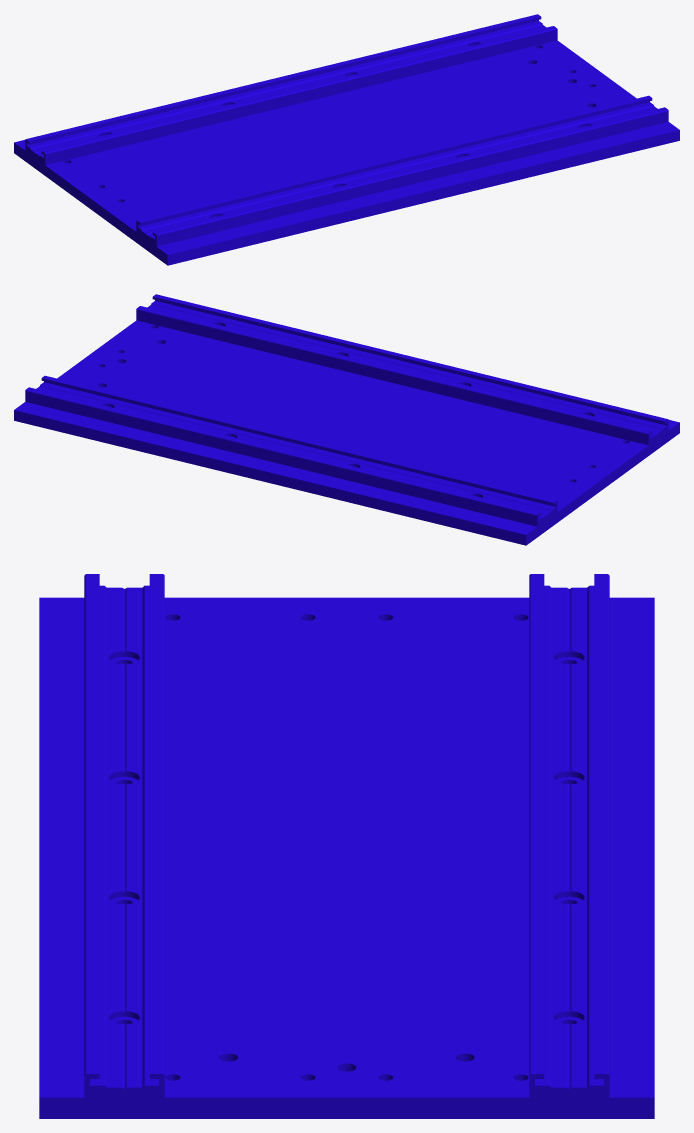
3 renders of one model, top to bottom at view 1: azimuth 30°, elevation 25°; view 2: azimuth 150°, elevation 25°; view 3: azimuth 270°, elevation 25°, orthographic. The views are drawn at different scales.
Visible parts, largest first — view 1: BasePart; view 2: BasePart; view 3: BasePart.
Part boxes in pixels (x1,y1,x2,y2): BasePart: [14, 14, 679, 265]; BasePart: [14, 294, 679, 545]; BasePart: [39, 574, 654, 1118].
Size of the model in its own units: 0.25 by 0.13 by 0.0105.
